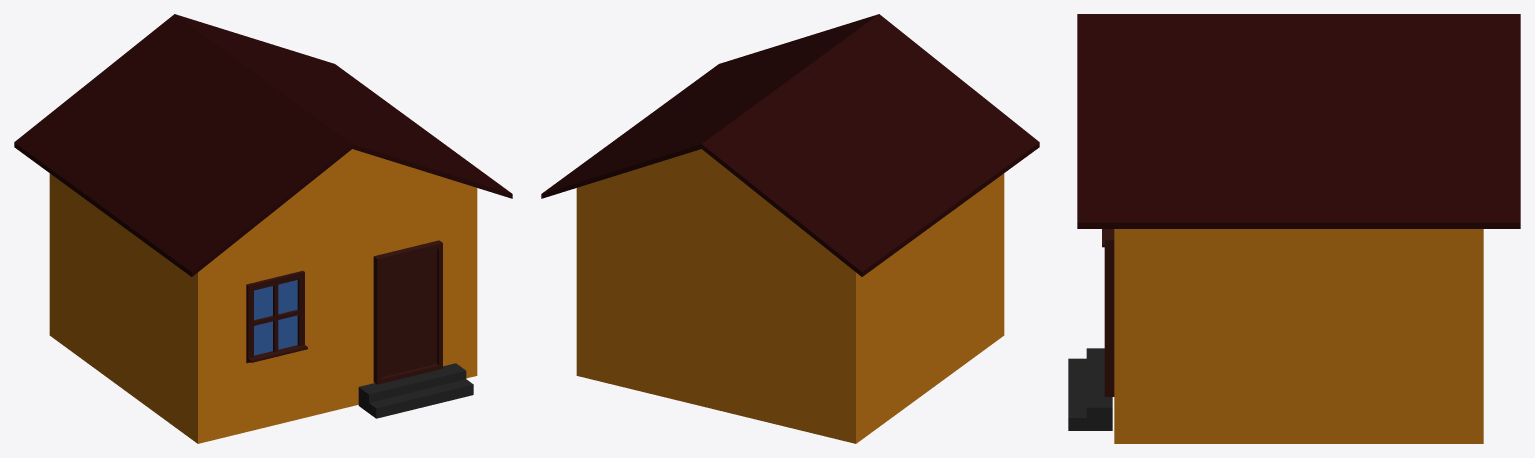
File: house.obj
3 views of the same model, side by side, from view 1: azimuth 30°, elevation 25°; view 2: azimuth 150°, elevation 25°; view 3: azimuth 270°, elevation 25° (orthographic). The views are drawn at different scales.
Visible parts, largest first — view 1: Cube; view 2: Cube; view 3: Cube.
Part boxes in pixels (x1,y1,x2,y2): Cube: [14, 14, 512, 443]; Cube: [541, 14, 1039, 443]; Cube: [1068, 14, 1520, 443].
Bounding box in the file's own units: 1.15 × 0.9477 × 1.12.
